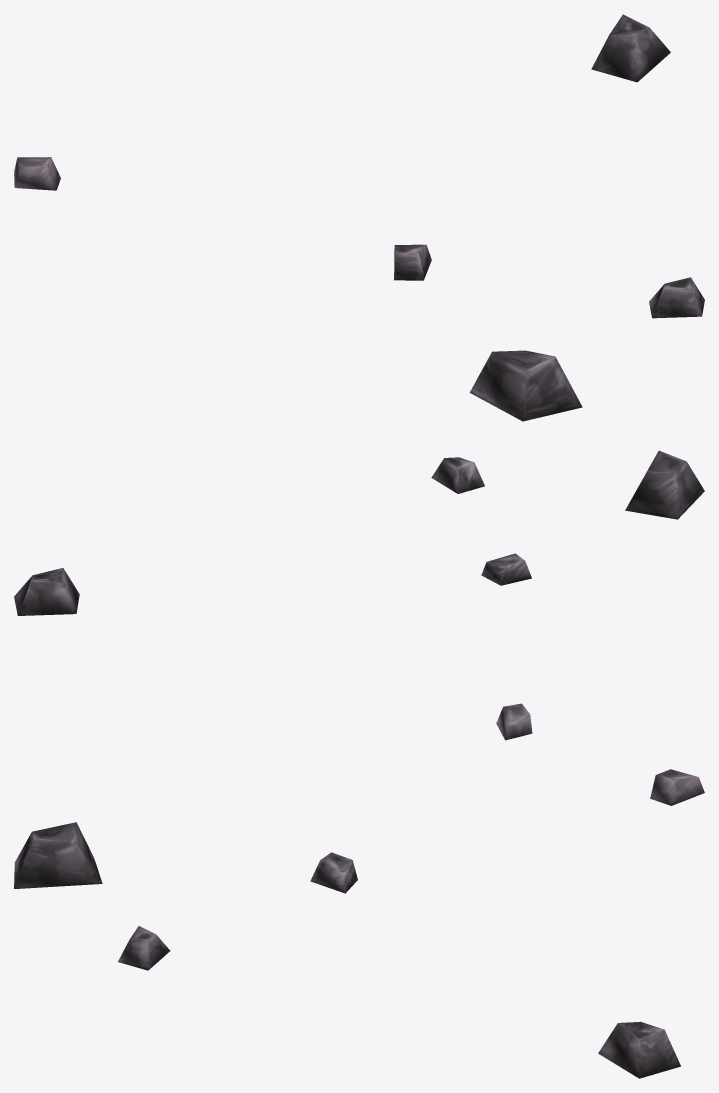
The model's file is Kiesel.FBX.
3 renders of one model, top to bottom at view 1: azimuth 30°, elevation 25°; view 2: azimuth 150°, elevation 25°; view 3: azimuth 270°, elevation 25°, orthographic. The views are drawn at different scales.
Parts seen in each view (by area): view 1: Sphere001; view 2: Sphere001; view 3: Sphere001.
Boxes of the visible parts, x1,y1,x2,y2 form: Sphere001: [14, 14, 704, 421]; Sphere001: [14, 450, 704, 740]; Sphere001: [14, 769, 704, 1078].
Size of the model in its own units: 19.73 by 1.36 by 20.05.
